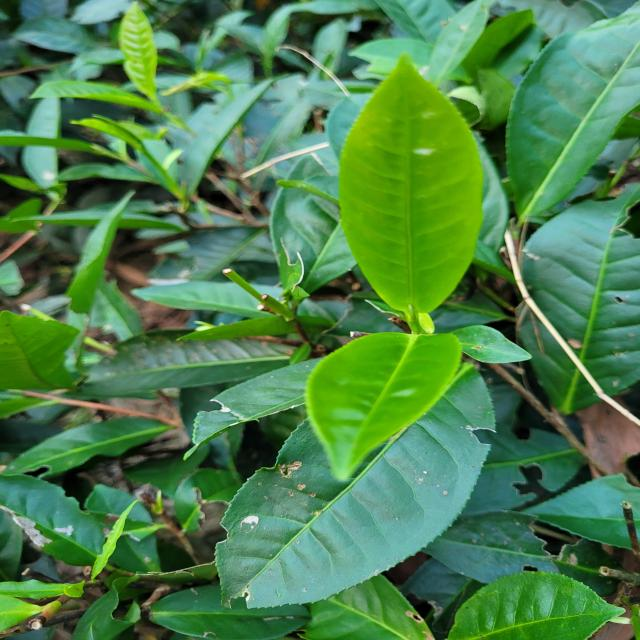Catagory A(1-2 days): (296, 308, 474, 479)
